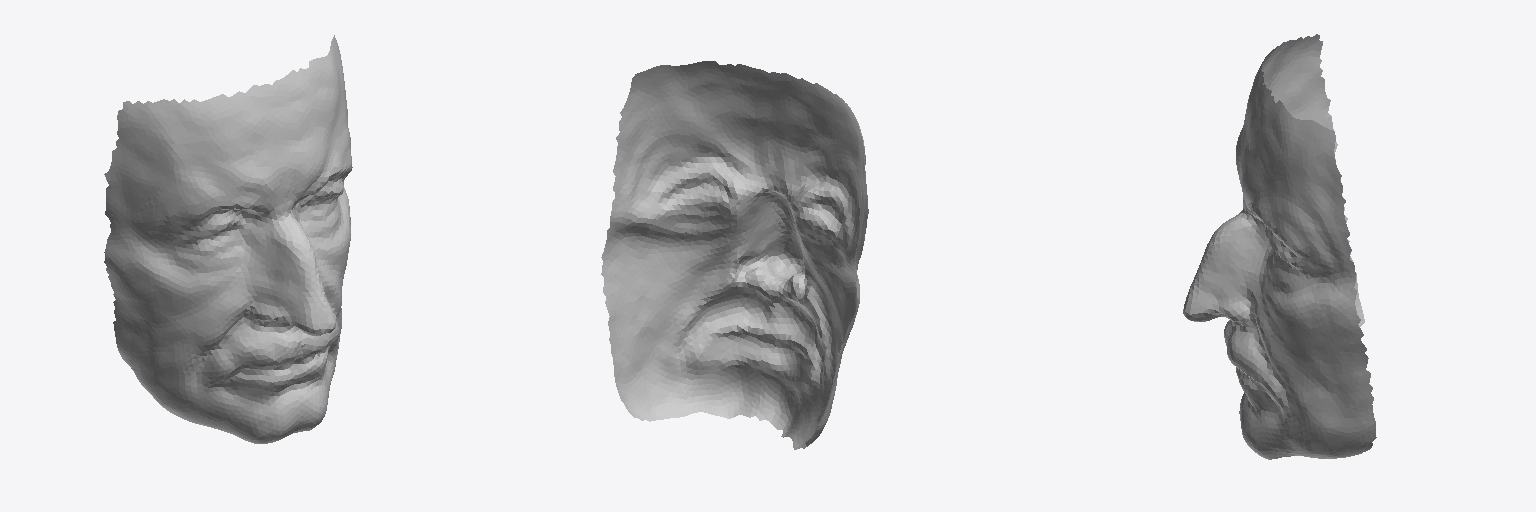
The model's file is maxFace.obj.
3 renders of one model, left to right at view 1: azimuth 30°, elevation 25°; view 2: azimuth 150°, elevation 25°; view 3: azimuth 270°, elevation 25°, orthographic.
Size of the model in its own units: 114 by 157 by 75.93.